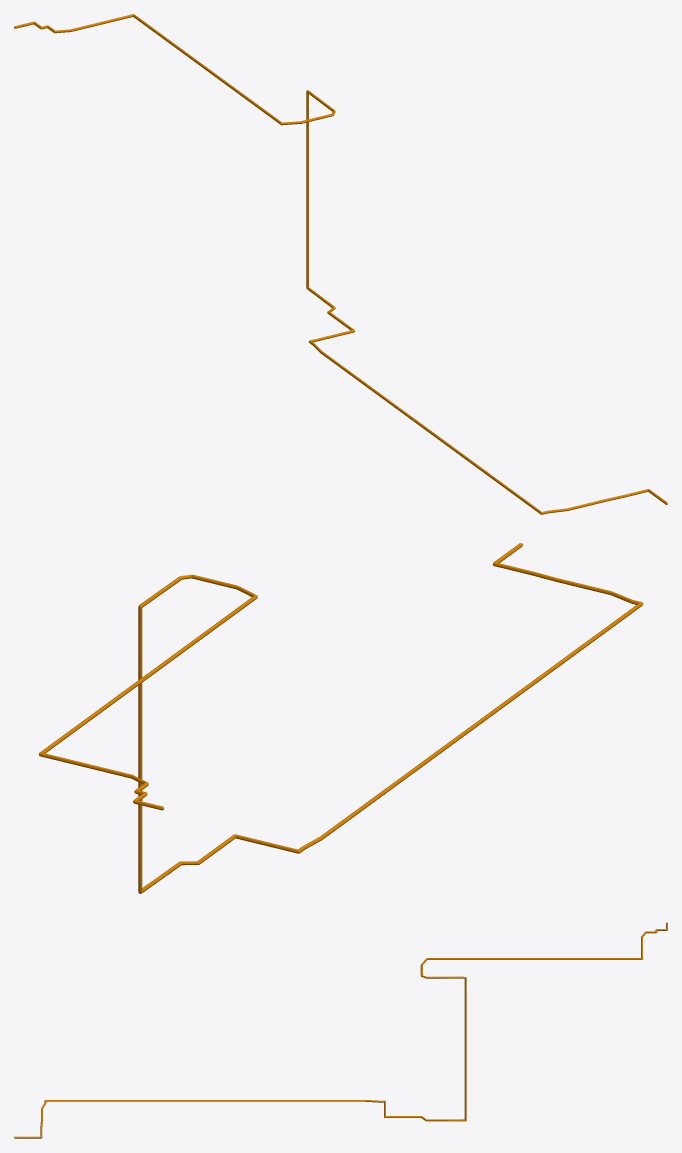
The picture shows the model from 3 angles, top to bottom: view 1: azimuth 30°, elevation 25°; view 2: azimuth 150°, elevation 25°; view 3: azimuth 270°, elevation 25°; orthographic projection. The views are drawn at different scales.
Size of the model in its own units: 1633 by 1520 by 6232.
